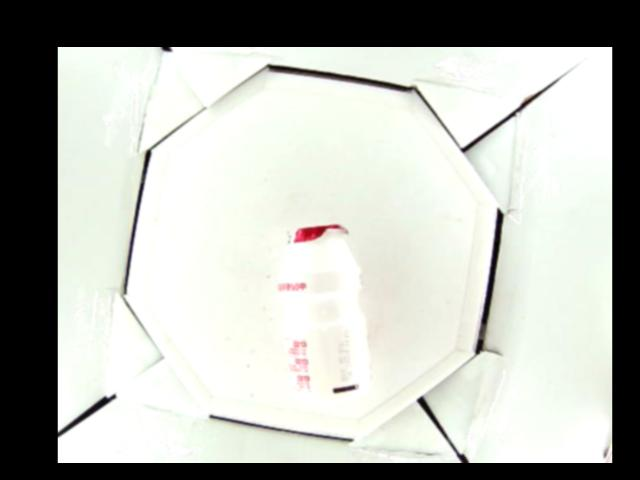Bottle: (275, 224, 373, 401)
